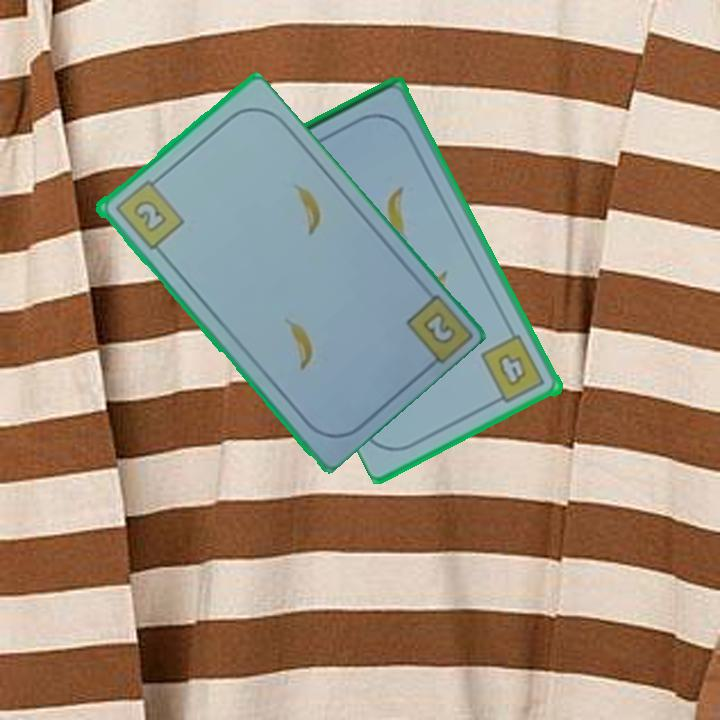2b: (111, 173, 186, 253), (418, 307, 456, 348)
4b: (478, 331, 549, 408)
